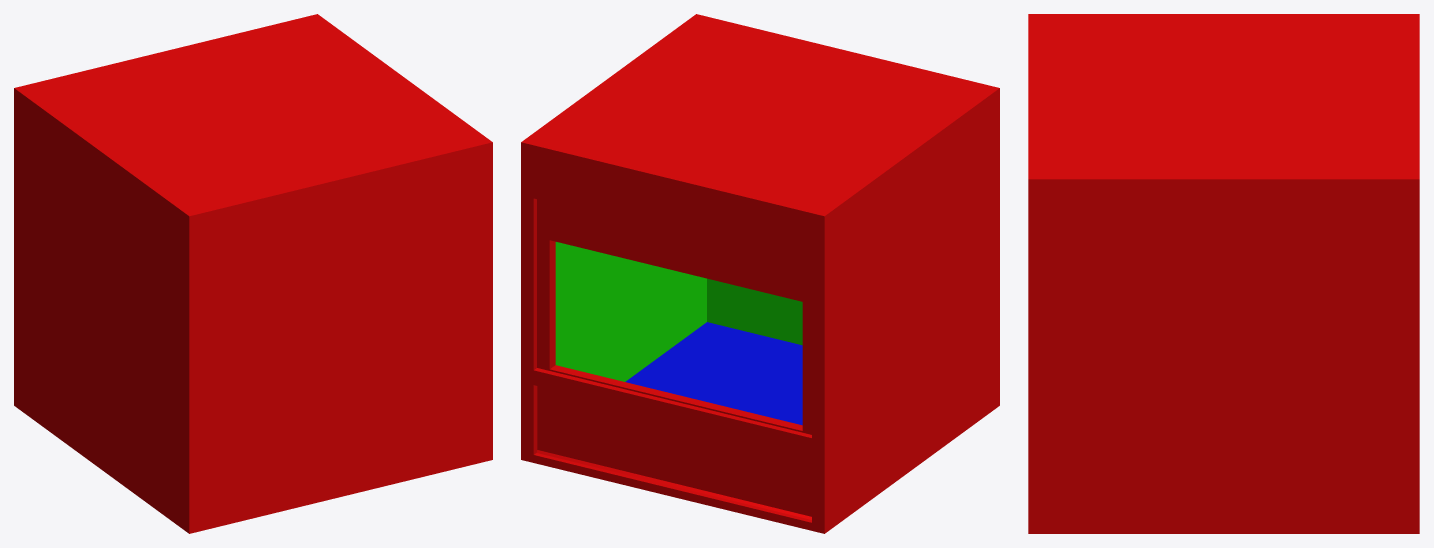
File: generic3x3x3_large_window_hole.fbx
3 views of the same model, side by side, from view 1: azimuth 30°, elevation 25°; view 2: azimuth 150°, elevation 25°; view 3: azimuth 270°, elevation 25° (orthographic). The views are drawn at different scales.
Visible parts, largest first — view 1: Cube; view 2: Cube; view 3: Cube.
Boxes of the visible parts, x1,y1,x2,y2 form: Cube: [14, 14, 492, 533]; Cube: [521, 14, 999, 533]; Cube: [1028, 14, 1419, 533].
Bounding box in the file's own units: 3 × 3 × 3.
